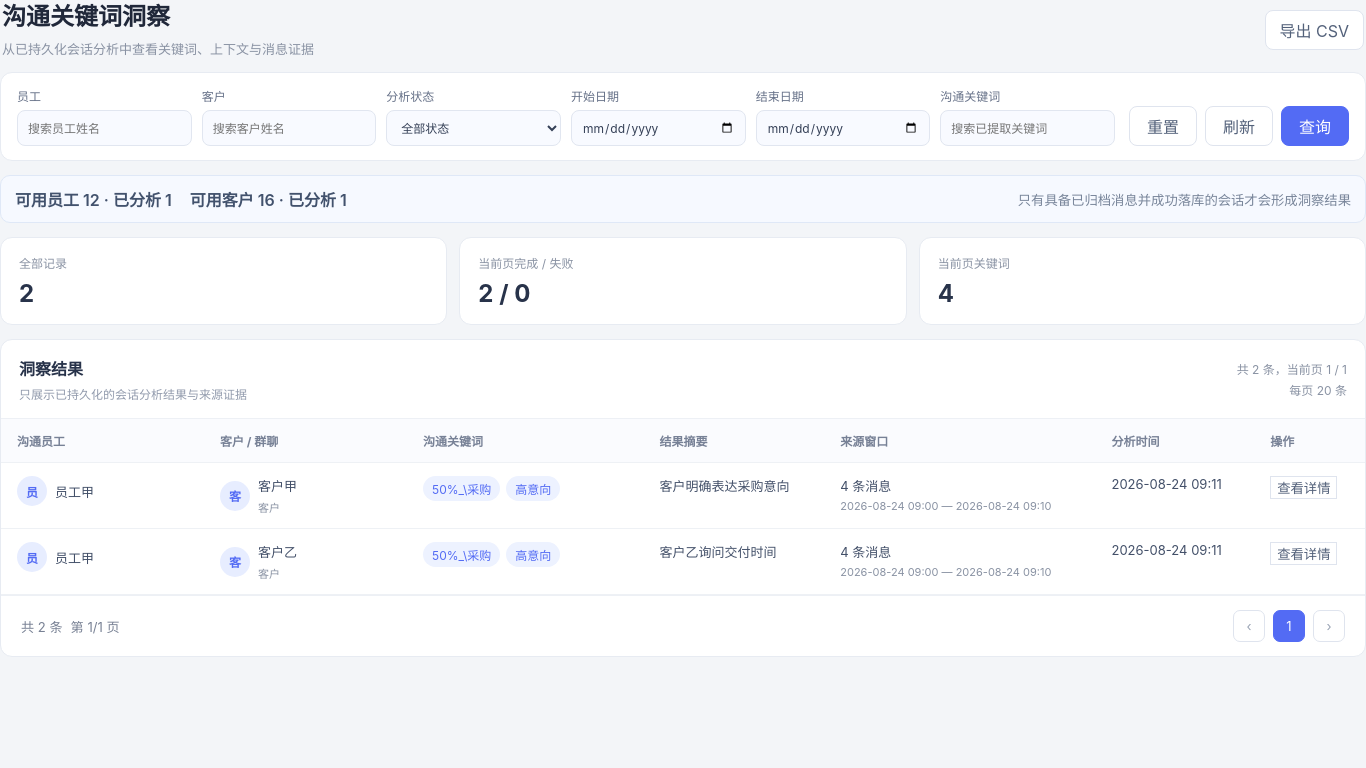
Test case: 三个 AI 洞察专用投影页面 › 连续点击两行且第二个详情先返回时，旧响应不能覆盖最后点击的证据
Click the row that starts with "员工甲" at [683, 496], box x1=1 y1=462 x2=1365 y2=528
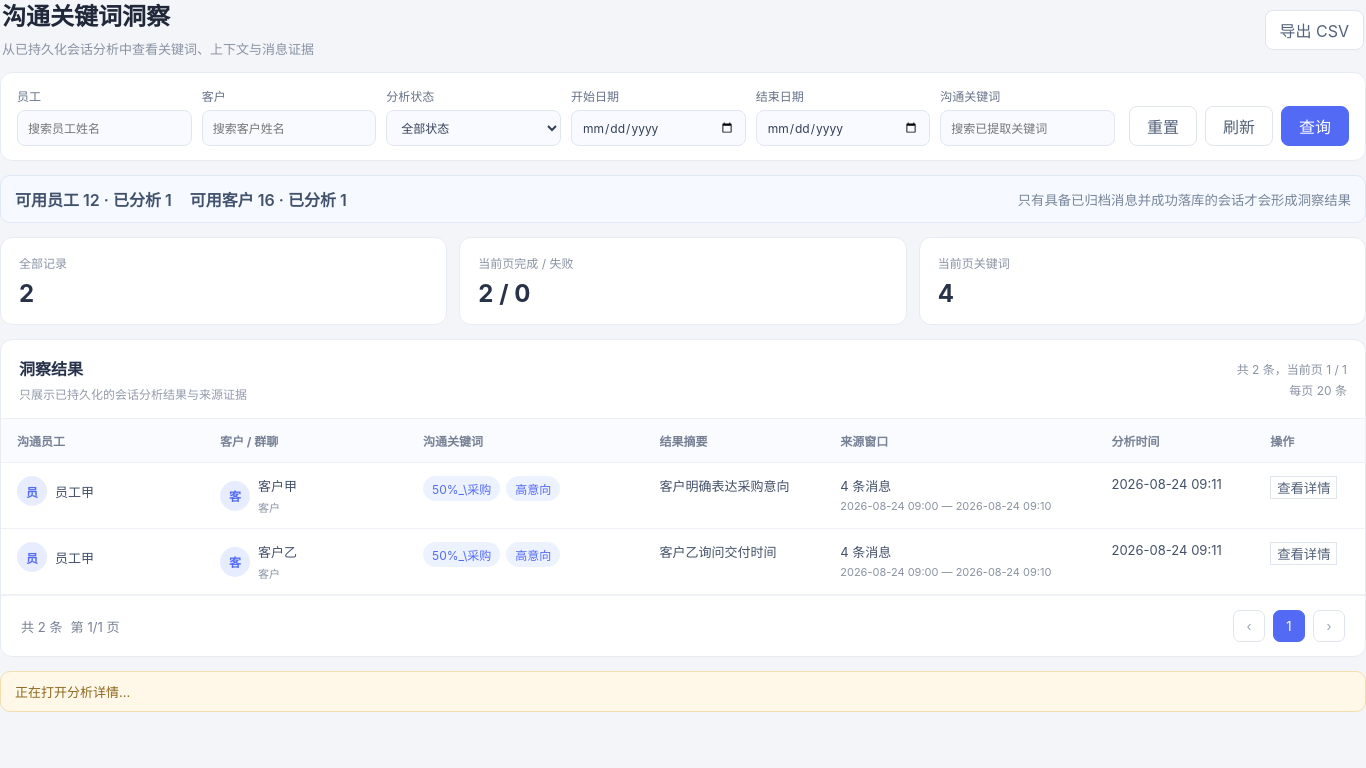
Click the row that starts with "员工甲" at [683, 562], box x1=1 y1=528 x2=1365 y2=594
(page scrolled)
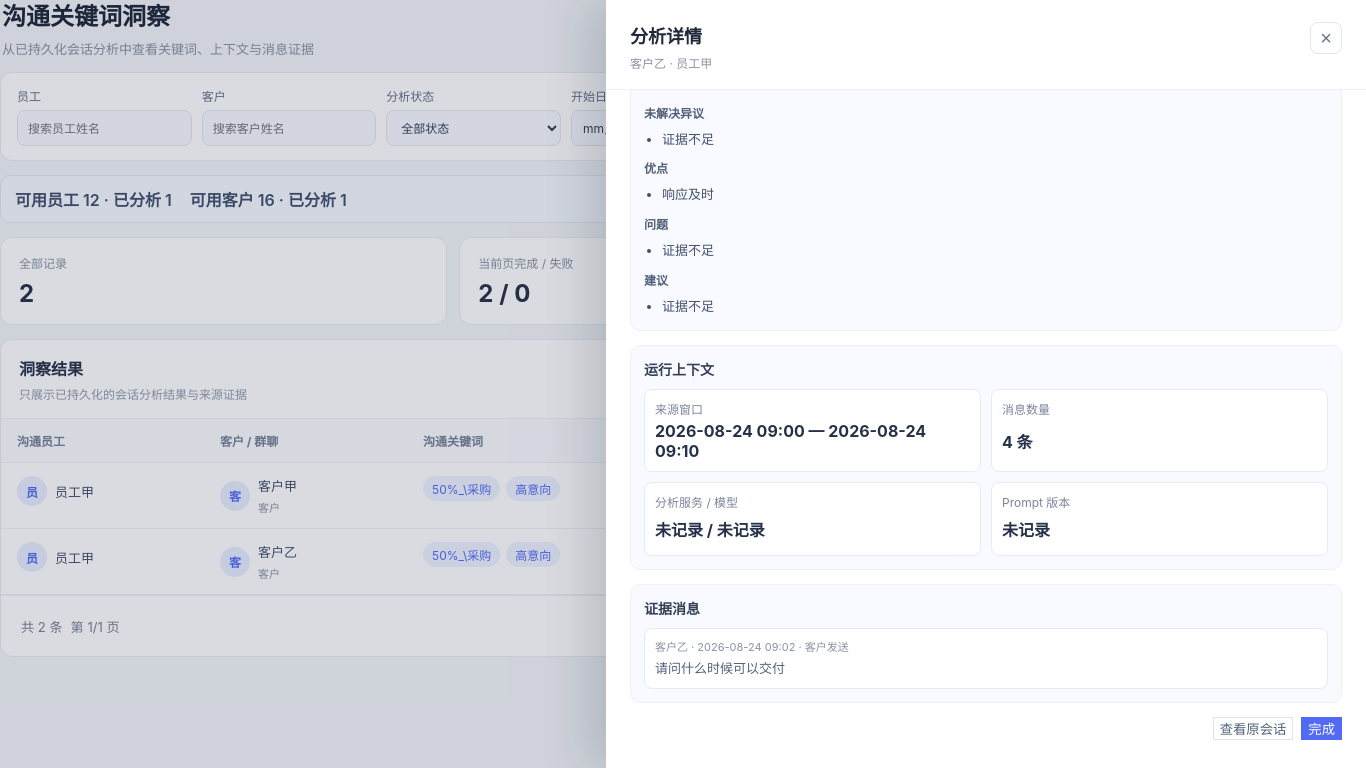
Expected: the text "请问什么时候可以交付" is shown, x1=655 y1=660 x2=785 y2=676
